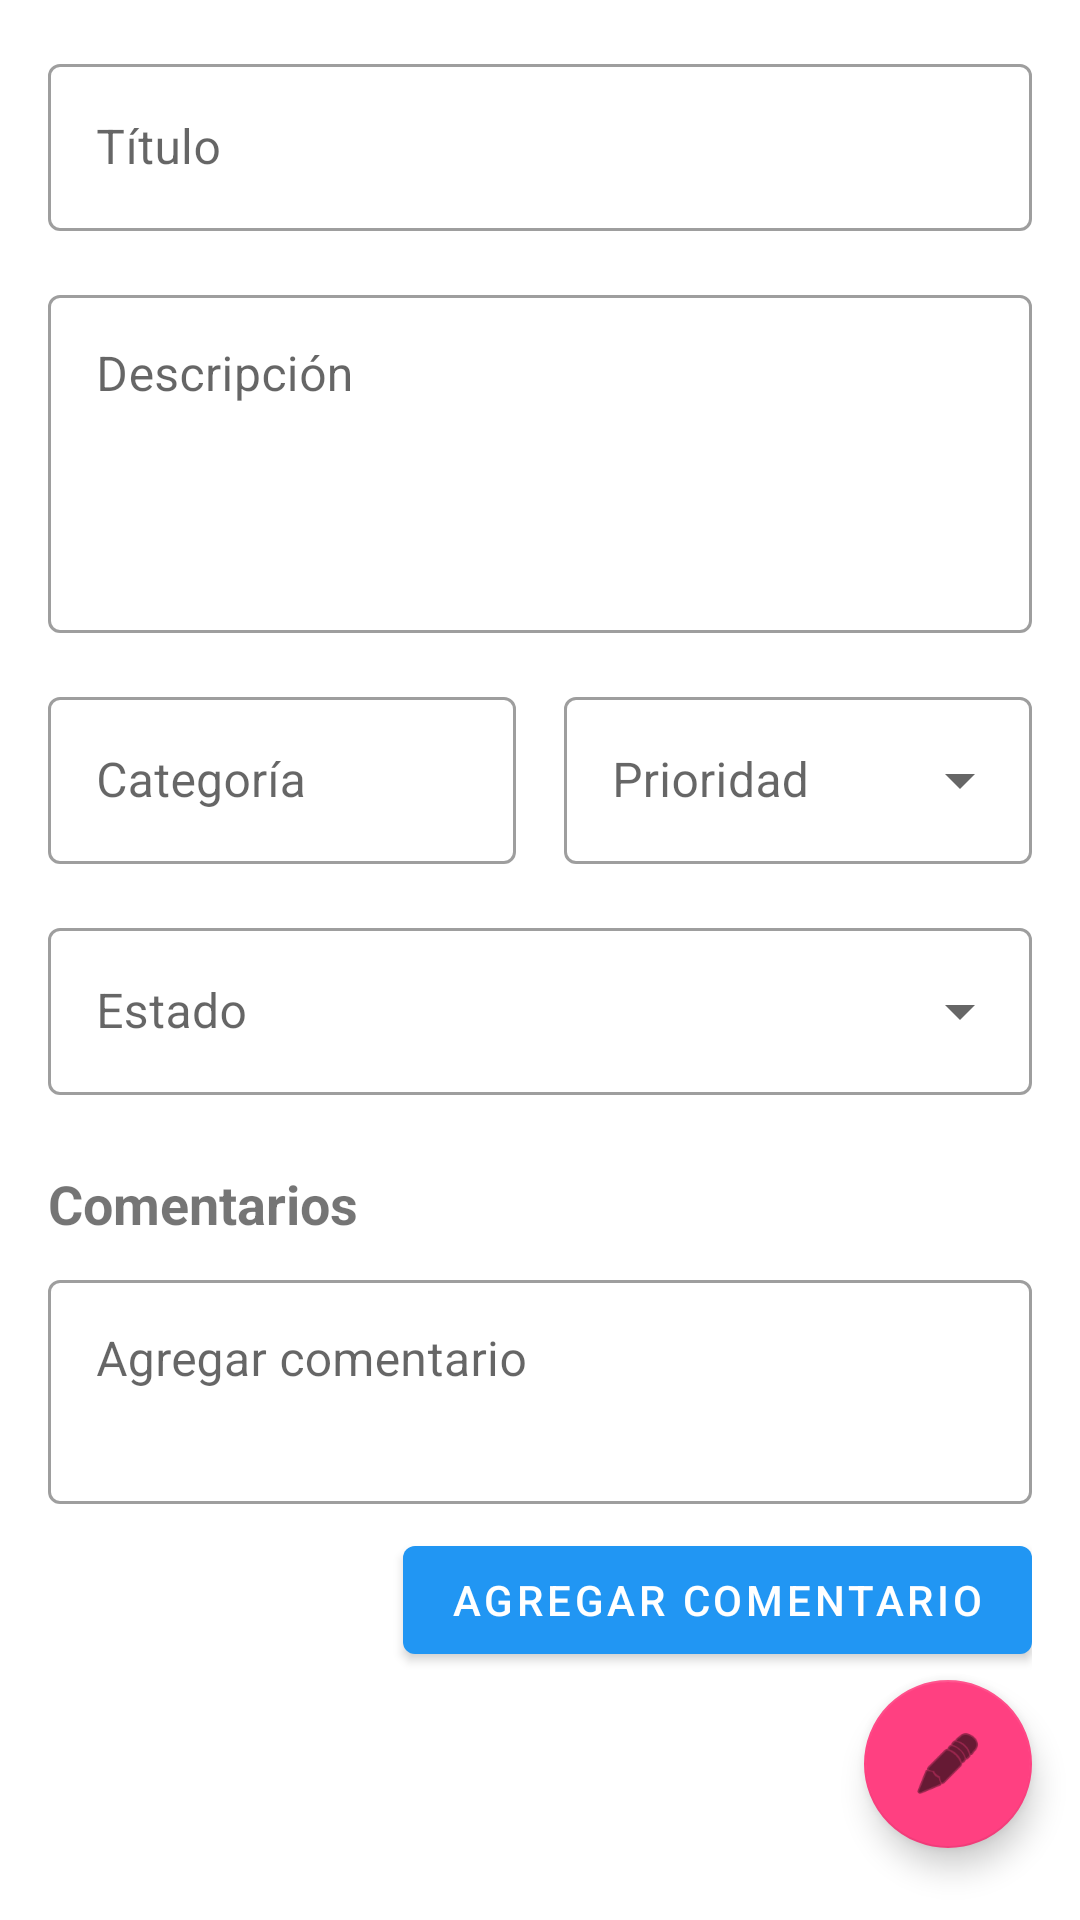

Icon click points for this 1080 x 1920 phone screenshot, format (x=x, y=y):
Editar ticket: (x=948, y=1764)
